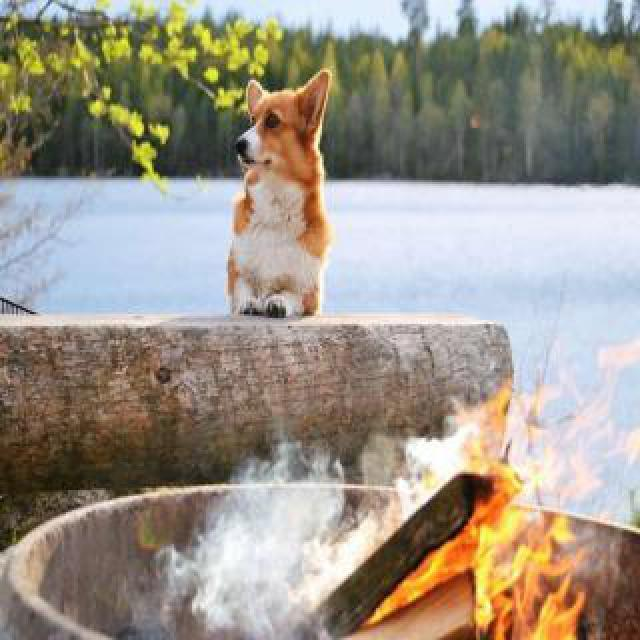Fire: (392, 464, 578, 638)
Smoke: (126, 386, 394, 638)
